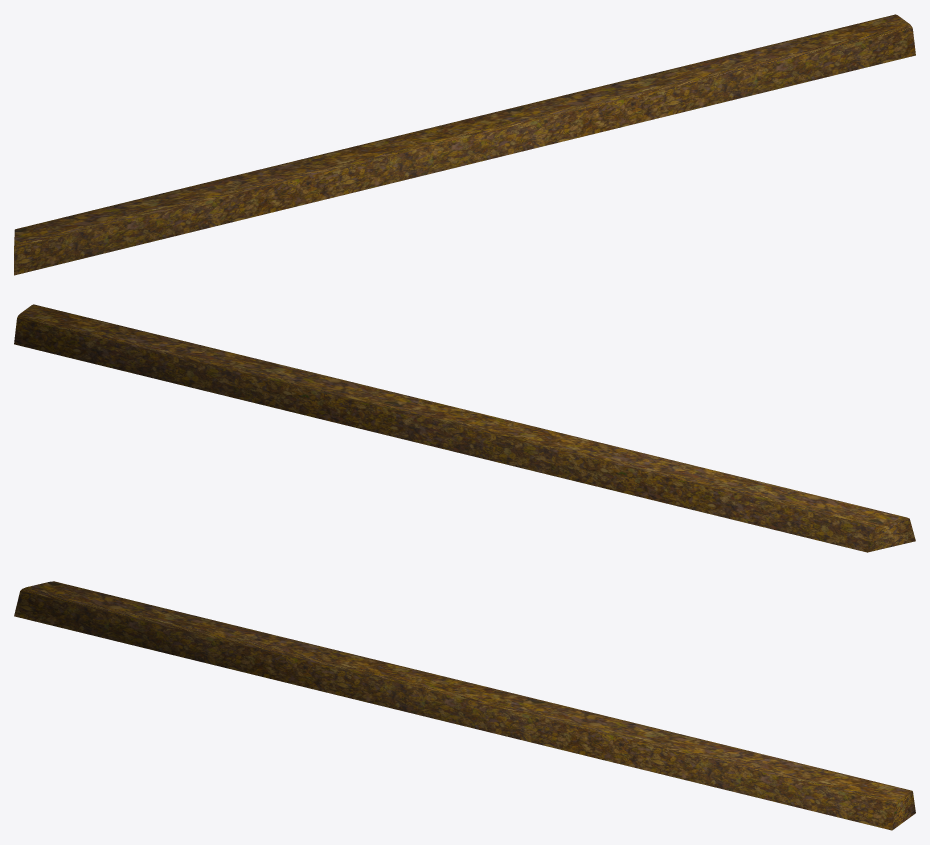
File: E3_suelo10.fbx
3 renders of one model, top to bottom at view 1: azimuth 30°, elevation 25°; view 2: azimuth 150°, elevation 25°; view 3: azimuth 330°, elevation 25°, orthographic. The views are drawn at different scales.
Visible parts, largest first — view 1: Cube.043; view 2: Cube.043; view 3: Cube.043.
Part boxes in pixels (left/top/right/bottom): Cube.043: left=14, top=14, right=915, bottom=275; Cube.043: left=14, top=304, right=915, bottom=552; Cube.043: left=14, top=581, right=915, bottom=830.
Bounding box in the file's own units: 3053 × 87.02 × 143.
1 material, 1 textured.
